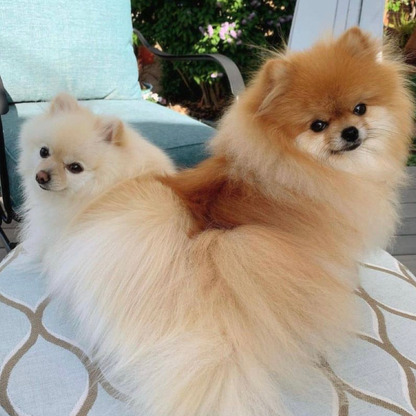Pomeranian: (208, 37, 398, 355), (16, 92, 170, 361)
